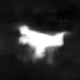plane: (15, 22, 72, 64)
